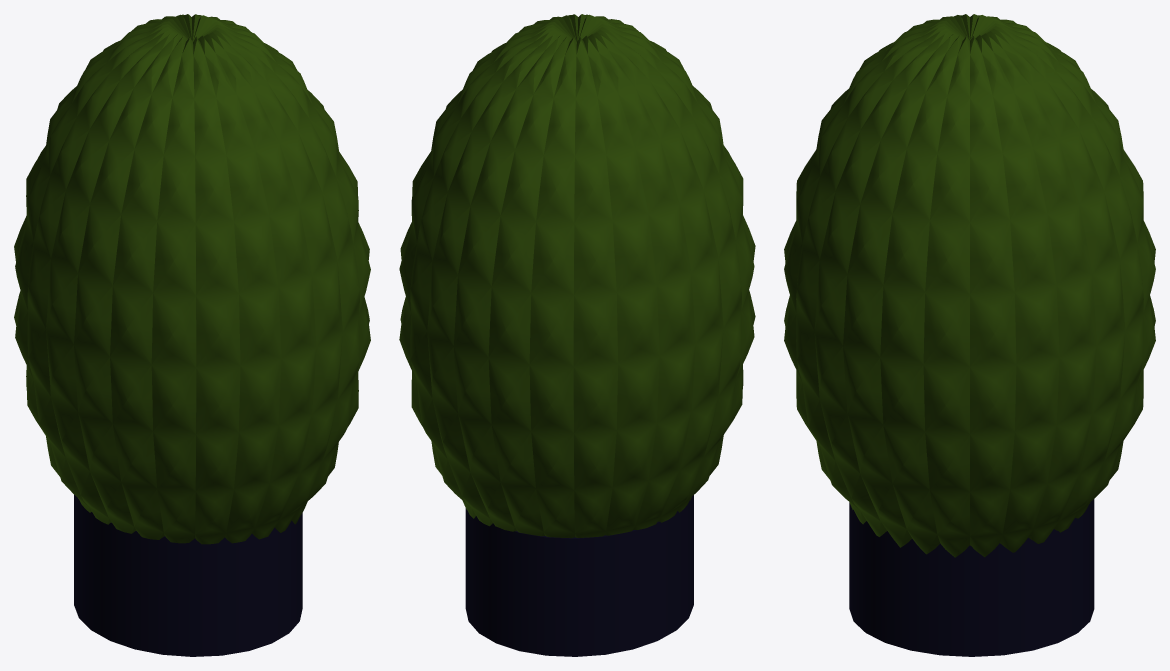
Rendered from plantFBX.fbx.
The picture shows the model from 3 angles, left to right: view 1: azimuth 30°, elevation 25°; view 2: azimuth 150°, elevation 25°; view 3: azimuth 270°, elevation 25°; orthographic projection.
Parts seen in each view (by area): view 1: Mesh; view 2: Mesh; view 3: Mesh.
Boxes of the visible parts, x1,y1,x2,y2 form: Mesh: (14, 14, 370, 656); Mesh: (399, 14, 755, 656); Mesh: (784, 14, 1155, 656).
Size of the model in its own units: 17.59 by 32.08 by 18.45.
